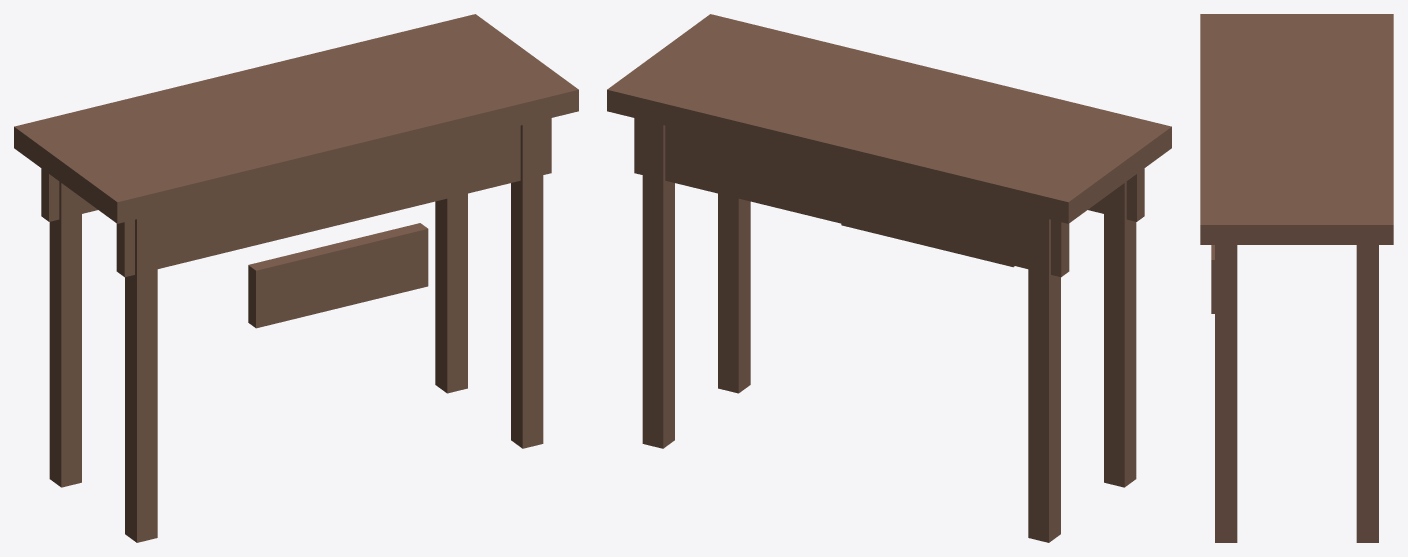
Rendered from offering_table.glb.
3 renders of one model, left to right at view 1: azimuth 30°, elevation 25°; view 2: azimuth 150°, elevation 25°; view 3: azimuth 270°, elevation 25°, orthographic. The views are drawn at different scales.
Visible parts, largest first — view 1: offering_table; view 2: offering_table; view 3: offering_table.
Boxes of the visible parts, left/top/right/bottom form: offering_table: left=14, top=14, right=578, bottom=542; offering_table: left=607, top=14, right=1171, bottom=542; offering_table: left=1200, top=14, right=1393, bottom=542.
Size of the model in its own units: 1.34 by 0.98 by 0.52.
